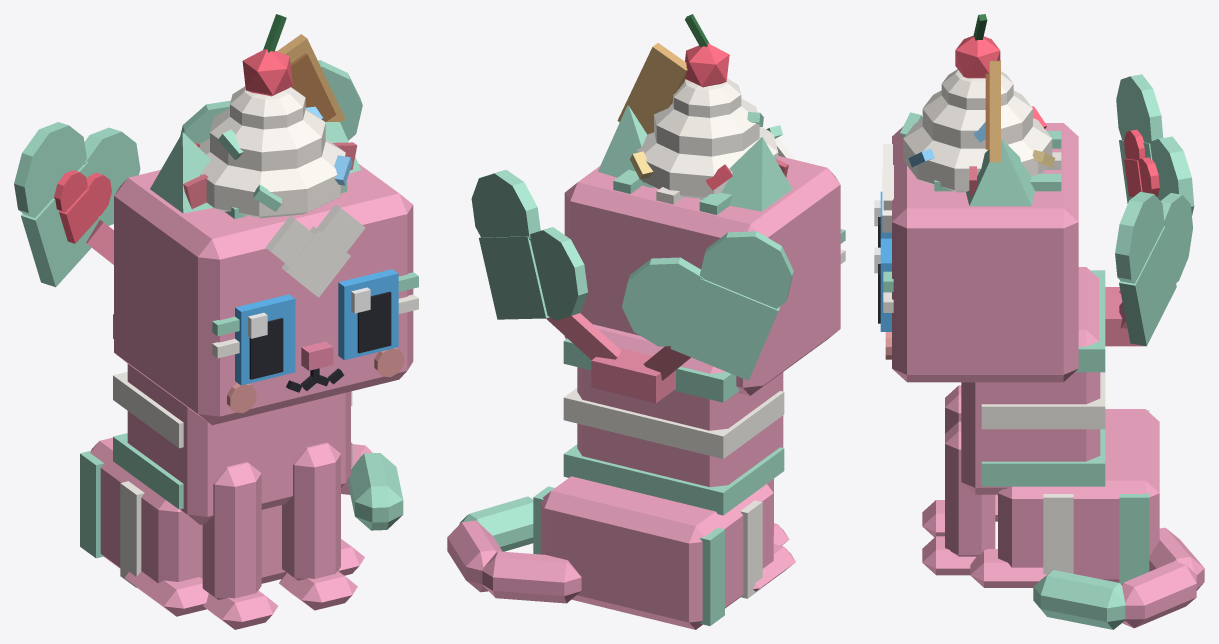
File: CleanACat_Cat_Sherbet_Sit.fbx
3 renders of one model, left to right at view 1: azimuth 30°, elevation 25°; view 2: azimuth 150°, elevation 25°; view 3: azimuth 270°, elevation 25°, orthographic. The views are drawn at different scales.
Visible parts, largest first — view 1: CleanACat_Cat_Sherbet_Sit_Head, CleanACat_Cat_Sherbet_Sit_Body, CleanACat_Cat_Sherbet_Sit_Prop, CleanACat_Cat_Sherbet_Sit_Prop2, CleanACat_Cat_Sherbet_Sit_LegF2, CleanACat_Cat_Sherbet_Sit_LegF1, CleanACat_Cat_Sherbet_Sit_Eye1, CleanACat_Cat_Sherbet_Sit_Eye2, CleanACat_Cat_Sherbet_Sit_Tail, CleanACat_Cat_Sherbet_Sit_EarR, CleanACat_Cat_Sherbet_Sit_Wings_Glow, CleanACat_Cat_Sherbet_Sit_Cherry_Glow (+1 smaller); view 2: CleanACat_Cat_Sherbet_Sit_Body, CleanACat_Cat_Sherbet_Sit_Prop2, CleanACat_Cat_Sherbet_Sit_Head, CleanACat_Cat_Sherbet_Sit_Prop, CleanACat_Cat_Sherbet_Sit_Tail, CleanACat_Cat_Sherbet_Sit_EarR, CleanACat_Cat_Sherbet_Sit_EarL, CleanACat_Cat_Sherbet_Sit_Cherry_Glow; view 3: CleanACat_Cat_Sherbet_Sit_Head, CleanACat_Cat_Sherbet_Sit_Body, CleanACat_Cat_Sherbet_Sit_Prop2, CleanACat_Cat_Sherbet_Sit_Prop, CleanACat_Cat_Sherbet_Sit_Tail, CleanACat_Cat_Sherbet_Sit_LegF1, CleanACat_Cat_Sherbet_Sit_EarL, CleanACat_Cat_Sherbet_Sit_Wings_Glow, CleanACat_Cat_Sherbet_Sit_Cherry_Glow, CleanACat_Cat_Sherbet_Sit_LegF2, CleanACat_Cat_Sherbet_Sit_Eye1.
Part boxes in pixels (x1,y1,x2,y2): CleanACat_Cat_Sherbet_Sit_Head: (114,164,418,425); CleanACat_Cat_Sherbet_Sit_Body: (80,314,364,616); CleanACat_Cat_Sherbet_Sit_Prop: (194,14,352,218); CleanACat_Cat_Sherbet_Sit_Prop2: (14,60,362,287); CleanACat_Cat_Sherbet_Sit_LegF2: (202,462,277,629); CleanACat_Cat_Sherbet_Sit_LegF1: (279,442,357,610); CleanACat_Cat_Sherbet_Sit_Eye1: (338,269,398,360); CleanACat_Cat_Sherbet_Sit_Eye2: (235,294,295,385); CleanACat_Cat_Sherbet_Sit_Tail: (341,444,403,530); CleanACat_Cat_Sherbet_Sit_EarR: (150,132,213,213); CleanACat_Cat_Sherbet_Sit_Wings_Glow: (54,170,111,243); CleanACat_Cat_Sherbet_Sit_Cherry_Glow: (242,49,292,96); CleanACat_Cat_Sherbet_Sit_Body: (533,324,795,629); CleanACat_Cat_Sherbet_Sit_Prop2: (471,169,793,403); CleanACat_Cat_Sherbet_Sit_Head: (564,137,845,395); CleanACat_Cat_Sherbet_Sit_Prop: (617,14,782,198); CleanACat_Cat_Sherbet_Sit_Tail: (447,496,581,603); CleanACat_Cat_Sherbet_Sit_EarR: (699,137,792,211); CleanACat_Cat_Sherbet_Sit_EarL: (598,105,654,187); CleanACat_Cat_Sherbet_Sit_Cherry_Glow: (685,43,729,87); CleanACat_Cat_Sherbet_Sit_Head: (882,123,1078,382); CleanACat_Cat_Sherbet_Sit_Body: (961,267,1159,587); CleanACat_Cat_Sherbet_Sit_Prop2: (1105,74,1194,346); CleanACat_Cat_Sherbet_Sit_Prop: (900,14,1055,192); CleanACat_Cat_Sherbet_Sit_Tail: (1033,527,1204,629); CleanACat_Cat_Sherbet_Sit_LegF1: (922,421,995,575); CleanACat_Cat_Sherbet_Sit_EarL: (966,138,1035,206); CleanACat_Cat_Sherbet_Sit_Wings_Glow: (1124,129,1159,196); CleanACat_Cat_Sherbet_Sit_Cherry_Glow: (955,35,1000,78); CleanACat_Cat_Sherbet_Sit_LegF2: (922,385,961,537); CleanACat_Cat_Sherbet_Sit_Eye1: (874,238,891,331).
Bounding box in the file's own units: 1.51 × 2.25 × 1.24.
1 material, 1 textured.
